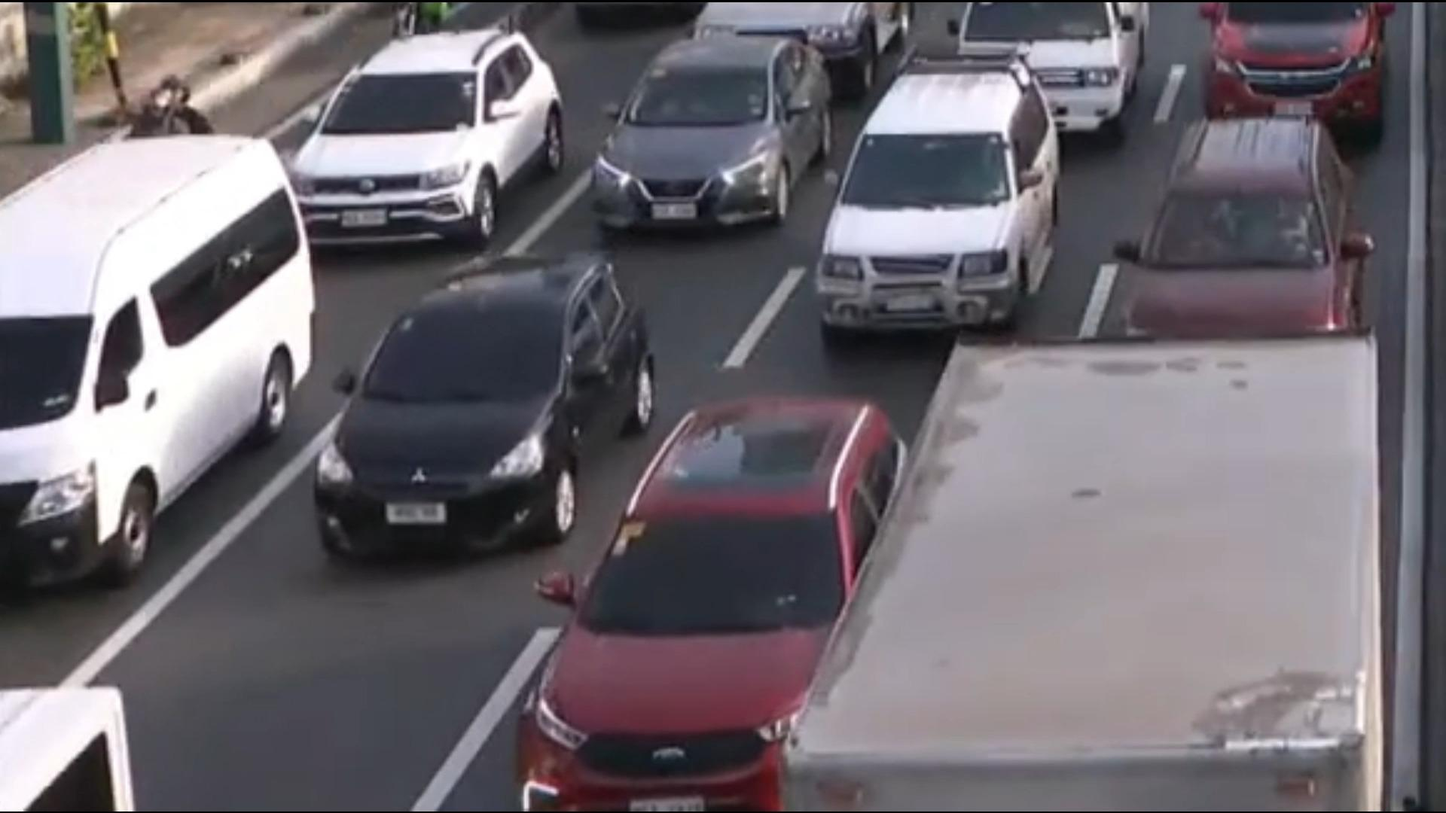SUV: (500, 379, 911, 813), (812, 38, 1061, 358), (1098, 112, 1370, 367), (282, 22, 577, 247), (1181, 0, 1410, 152)
Sedan: (307, 248, 663, 592), (589, 31, 850, 248)
Truck: (755, 307, 1400, 813)
Van: (0, 125, 320, 611), (937, 0, 1157, 136)
